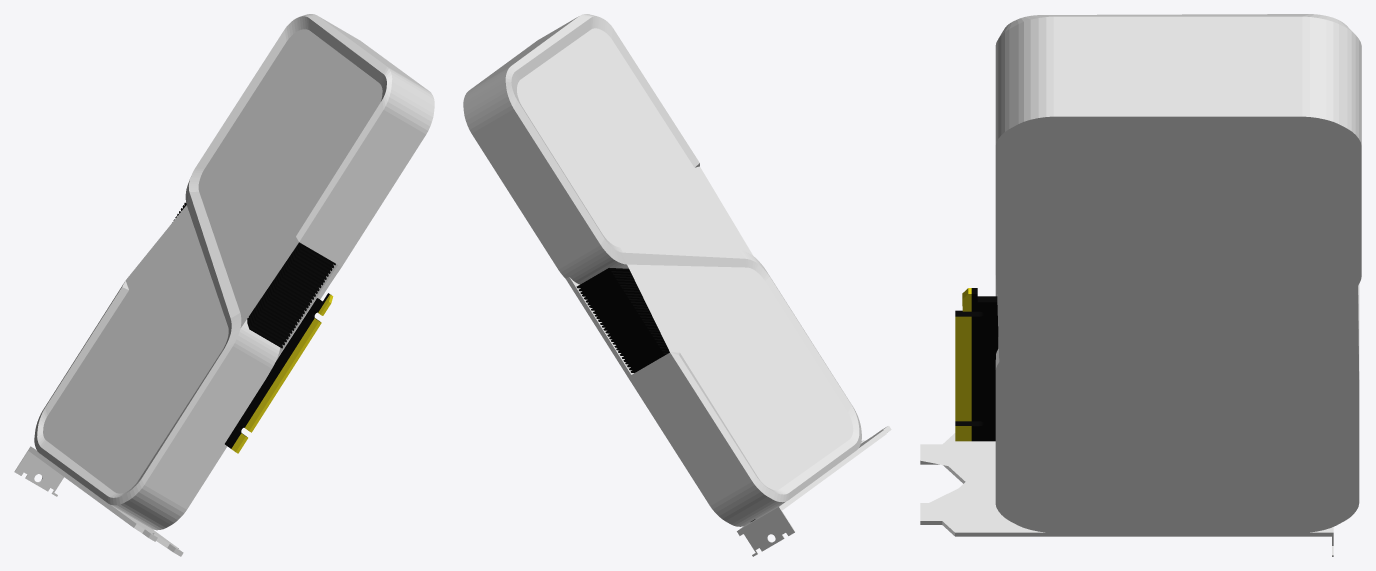
File: 3060ti_Rotate.fbx
3 views of the same model, side by side, from view 1: azimuth 30°, elevation 25°; view 2: azimuth 150°, elevation 25°; view 3: azimuth 270°, elevation 25° (orthographic). The views are drawn at different scales.
Visible parts, largest first — view 1: Border, heatsinks, pcieconnector, displayplate; view 2: Border, heatsinks, displayplate; view 3: Border, displayplate, pcieconnector.
Part boxes in pixels (x1,y1,x2,y2): Border: (34, 14, 434, 530); heatsinks: (172, 202, 335, 348); pcieconnector: (225, 293, 333, 453); displayplate: (14, 446, 183, 556); Border: (463, 14, 861, 526); heatsinks: (576, 268, 669, 372); displayplate: (737, 426, 891, 556); Border: (995, 14, 1361, 532); displayplate: (920, 433, 1333, 556); pcieconnector: (955, 288, 998, 441).
Bounding box in the file's own units: 360 × 434 × 228.
